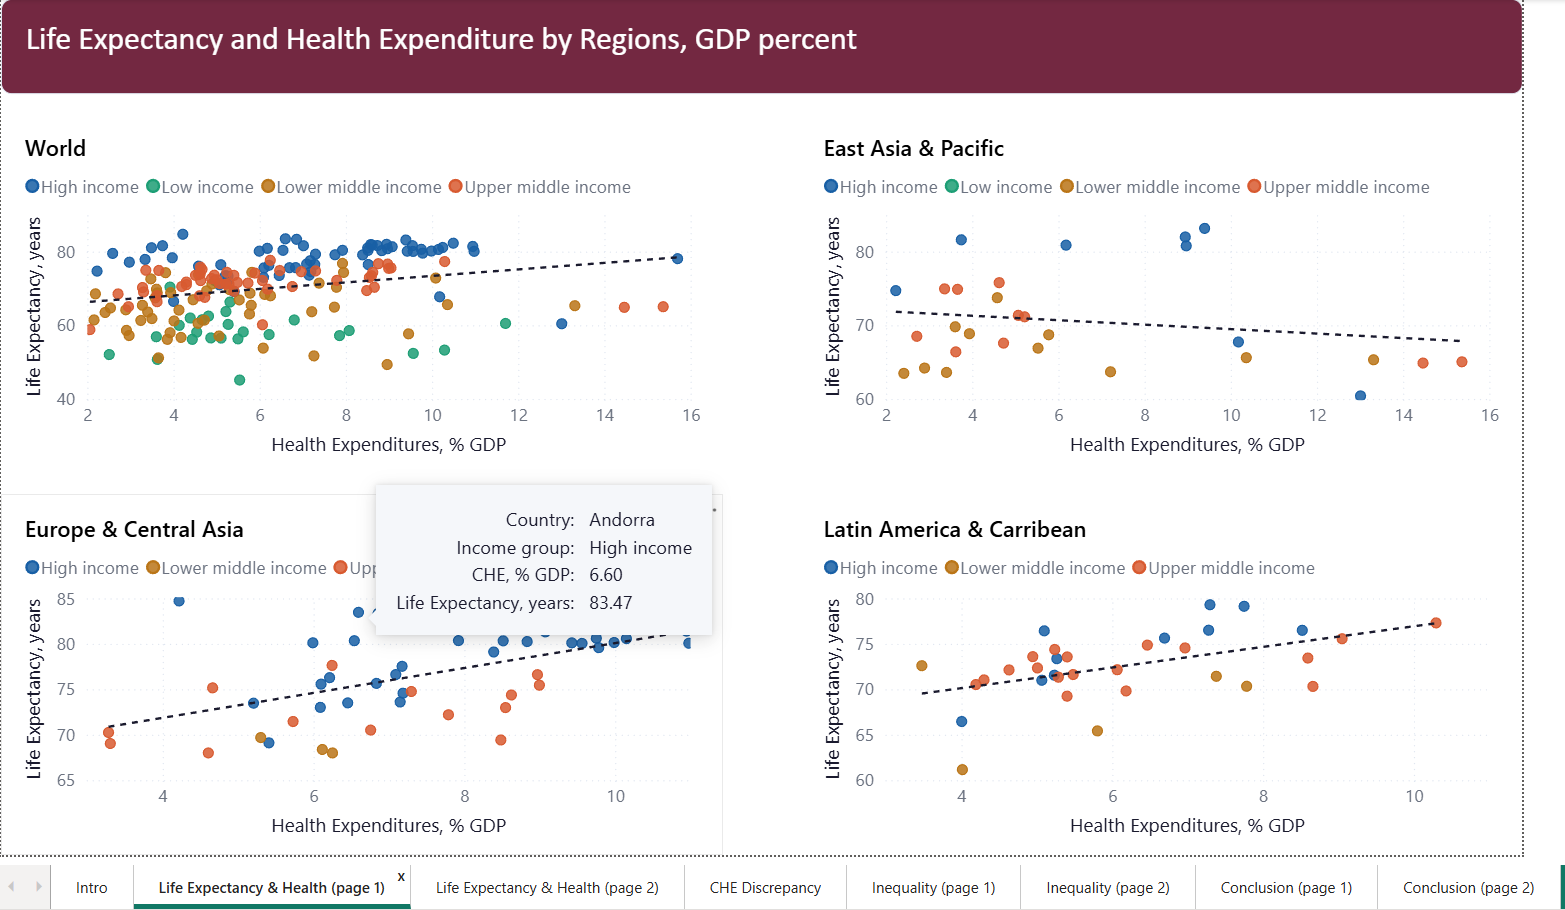

Layout of this report page (visuals, bound fields, positions):
{"tool":"powerbi","page":{"name":"Life Expectancy & Health (page 1)","canvas":[1280,720],"ordinal":1},"visuals":[{"type":"textbox","box":[0,0,1280,80],"z":0},{"type":"scatterChart","title":"World","fields":{"Y":["life_expect.life_expect"],"Category":["country.country_name"],"Series":["income_group.incomegroup_name"],"X":["Avg(che_gdp.che_pct_gdp)"]},"box":[0,96,608,304],"z":1000},{"type":"scatterChart","title":"East Asia & Pacific","fields":{"Y":["life_expect.life_expect"],"Category":["country.country_name"],"Series":["income_group.incomegroup_name"],"X":["Avg(che_gdp.che_pct_gdp)"]},"box":[672,96,608,304],"z":2000},{"type":"scatterChart","title":"Europe & Central Asia","fields":{"Y":["life_expect.life_expect"],"Category":["country.country_name"],"Series":["income_group.incomegroup_name"],"X":["Avg(che_gdp.che_pct_gdp)"]},"box":[0,416,608,304],"z":3000},{"type":"scatterChart","title":"Latin America & Carribean","fields":{"Y":["life_expect.life_expect"],"Category":["country.country_name"],"Series":["income_group.incomegroup_name"],"X":["Avg(che_gdp.che_pct_gdp)"]},"box":[672,416,608,304],"z":4000}]}

Visuals, with their boxes on the page's 1280x720 design canvas (x1, y1, x2, y2). These are canvas units, not pixel positions in the 1565x910 screenshot, which may show the page scaled, cropped or inside an application window:
textbox: [0, 0, 1280, 80]
"World" scatterChart: [0, 96, 608, 400]
"East Asia & Pacific" scatterChart: [672, 96, 1280, 400]
"Europe & Central Asia" scatterChart: [0, 416, 608, 720]
"Latin America & Carribean" scatterChart: [672, 416, 1280, 720]
